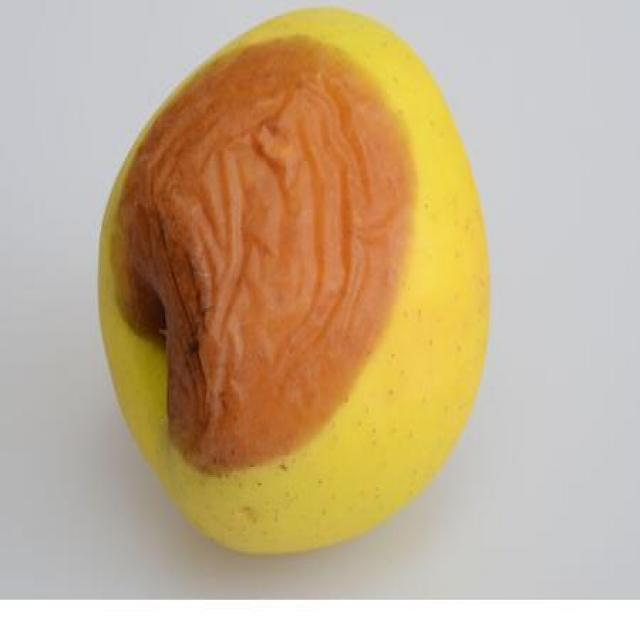Rotten: (76, 20, 481, 567)
